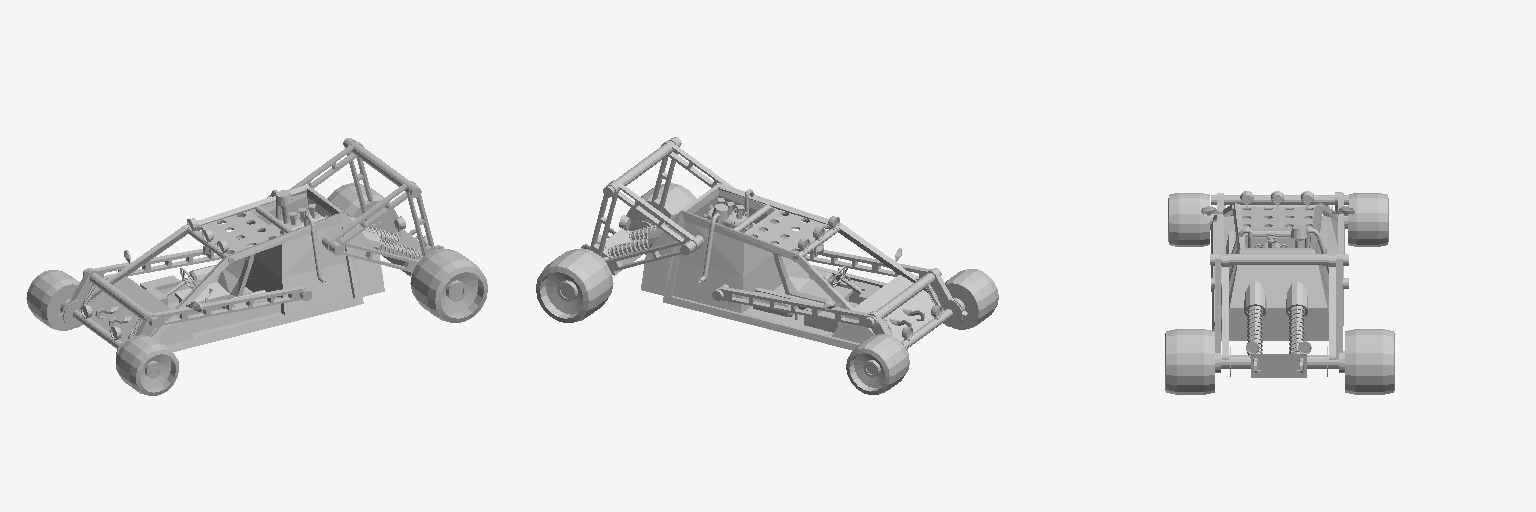
File: OFF-Roadcar.obj
3 views of the same model, side by side, from view 1: azimuth 30°, elevation 25°; view 2: azimuth 150°, elevation 25°; view 3: azimuth 270°, elevation 25° (orthographic).
Parts seen in each view (by area): view 1: OFFRoad_Car_(www,3dislands.blogspot.com).001; view 2: OFFRoad_Car_(www,3dislands.blogspot.com).001; view 3: OFFRoad_Car_(www,3dislands.blogspot.com).001.
Part boxes in pixels (left/top/right/bottom): OFFRoad_Car_(www,3dislands.blogspot.com).001: left=26, top=138, right=487, bottom=395; OFFRoad_Car_(www,3dislands.blogspot.com).001: left=536, top=137, right=998, bottom=394; OFFRoad_Car_(www,3dislands.blogspot.com).001: left=1165, top=191, right=1394, bottom=394.
Bounding box in the file's own units: 1.13 × 0.3849 × 0.6346.